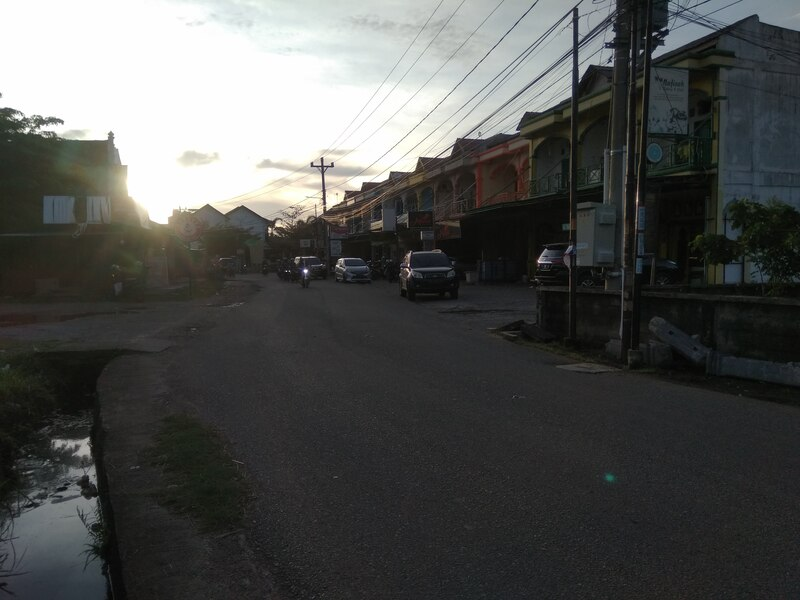car: (532, 241, 629, 297), (397, 246, 458, 304), (333, 255, 373, 288), (292, 255, 331, 283)
motorcycle: (107, 269, 145, 301), (299, 265, 314, 291)
